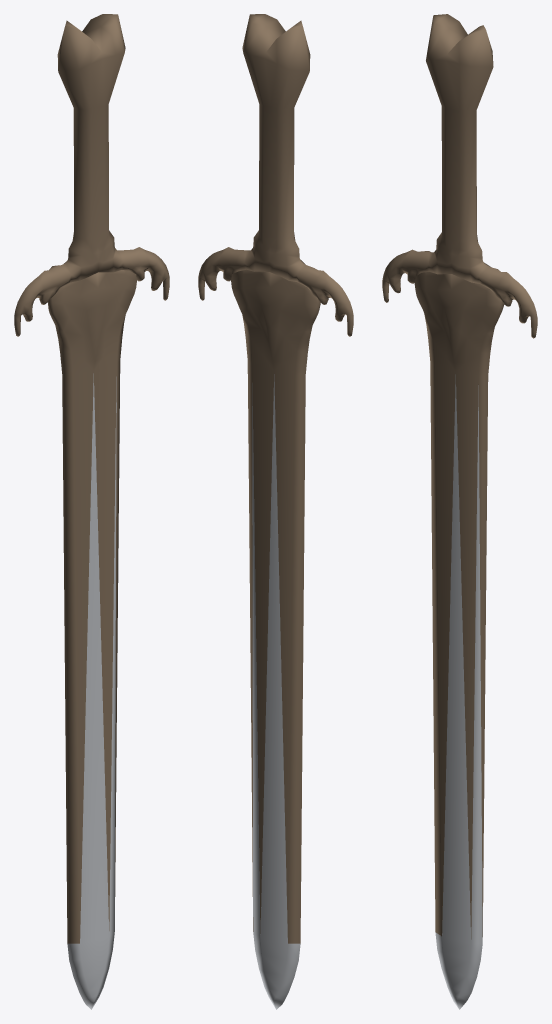
File: sword.glb
3 views of the same model, side by side, from view 1: azimuth 30°, elevation 25°; view 2: azimuth 150°, elevation 25°; view 3: azimuth 330°, elevation 25° (orthographic).
Parts seen in each view (by area): view 1: Baphomet-Sword; view 2: Baphomet-Sword; view 3: Baphomet-Sword.
Boxes of the visible parts, box(x1,y1,x2,y2) form: Baphomet-Sword: box(14, 14, 169, 1009); Baphomet-Sword: box(198, 14, 353, 1009); Baphomet-Sword: box(382, 14, 537, 1009).
Size of the model in its own units: 0.1577 by 0.9602 by 0.0443.
